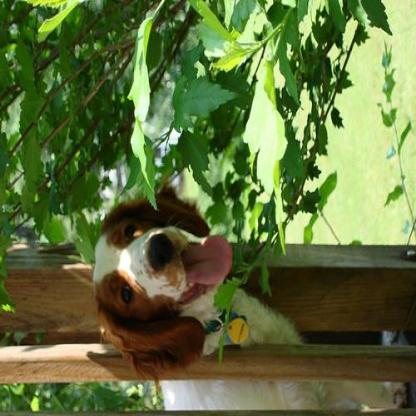Welsh_springer_spaniel: (87, 176, 309, 382)
